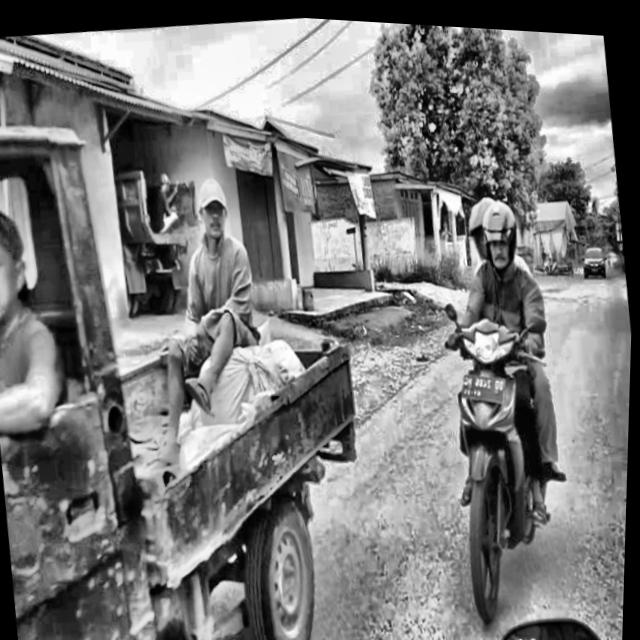motorcycle: (382, 293, 596, 628)
